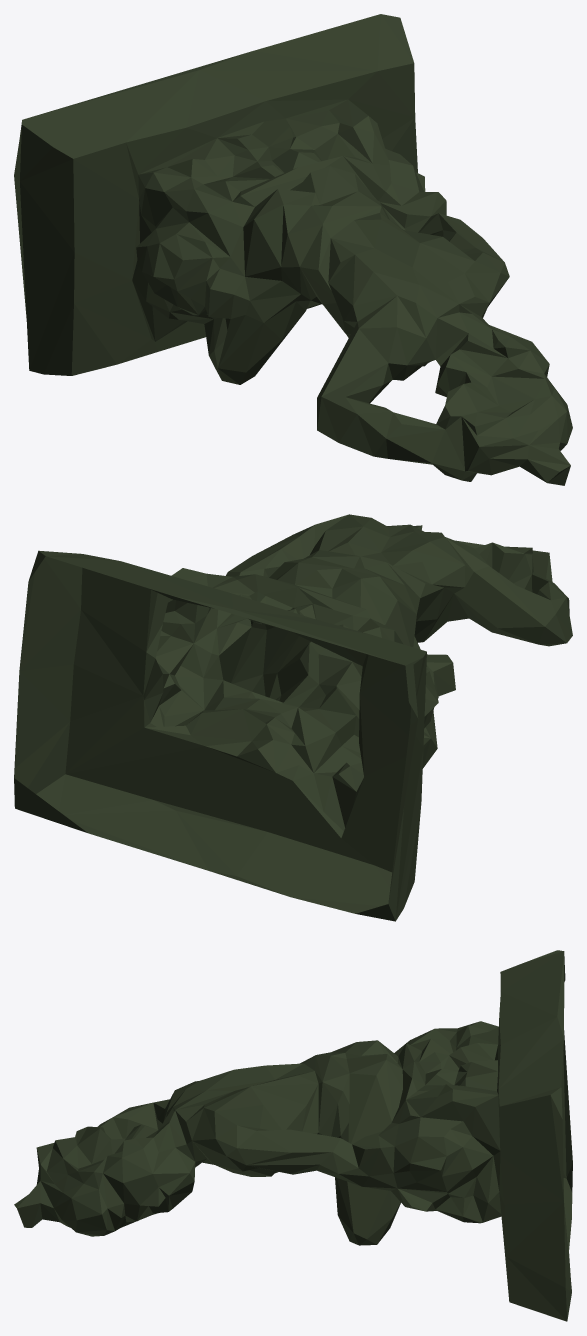
The model's file is maya-head.lod1.glb.
3 views of the same model, one above another, from view 1: azimuth 30°, elevation 25°; view 2: azimuth 150°, elevation 25°; view 3: azimuth 270°, elevation 25° (orthographic). The views are drawn at different scales.
Parts seen in each view (by area): view 1: Object_2; view 2: Object_2; view 3: Object_2.
Part boxes in pixels (<box>): Object_2: <box>14,14,572,485</box>; Object_2: <box>14,514,572,921</box>; Object_2: <box>14,950,572,1321</box>.
Size of the model in its own units: 4.3 by 2.85 by 5.99.
